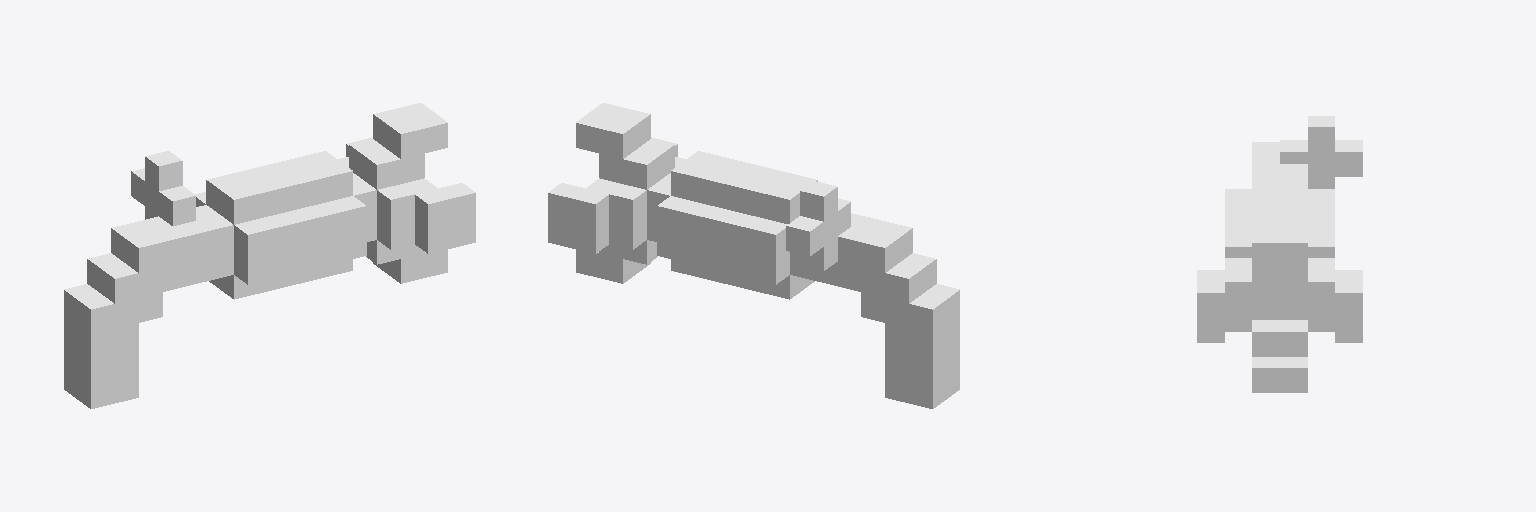
The model's file is miner_spatial.obj.
3 renders of one model, left to right at view 1: azimuth 30°, elevation 25°; view 2: azimuth 150°, elevation 25°; view 3: azimuth 270°, elevation 25°, orthographic.
Size of the model in its own units: 15 by 8 by 6.